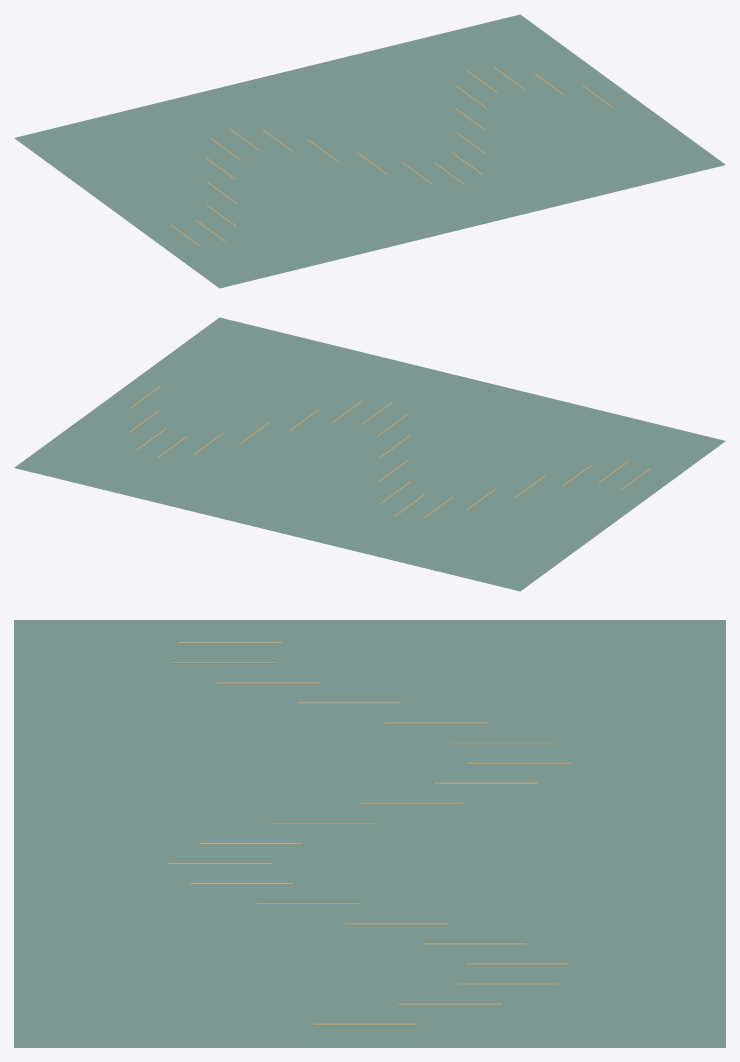
The model's file is 239_L118_L2_LayerReference.glb.
3 views of the same model, one above another, from view 1: azimuth 30°, elevation 25°; view 2: azimuth 150°, elevation 25°; view 3: azimuth 270°, elevation 25° (orthographic). The views are drawn at different scales.
Visible parts, largest first — view 1: 0000__PSMAT__dielectric; view 2: 0000__PSMAT__dielectric; view 3: 0000__PSMAT__dielectric.
Boxes of the visible parts, x1,y1,x2,y2 form: 0000__PSMAT__dielectric: [14, 14, 725, 288]; 0000__PSMAT__dielectric: [14, 317, 725, 591]; 0000__PSMAT__dielectric: [14, 620, 725, 1047].
Bounding box in the file's own units: 0.472 × 0.000559 × 0.332.
